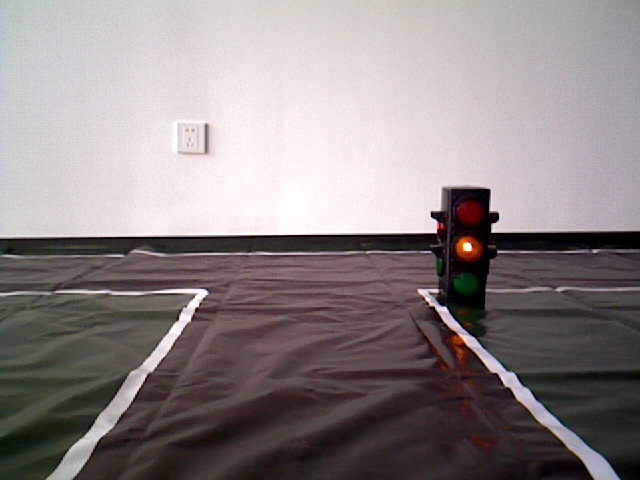yellow: (443, 183, 486, 303)
